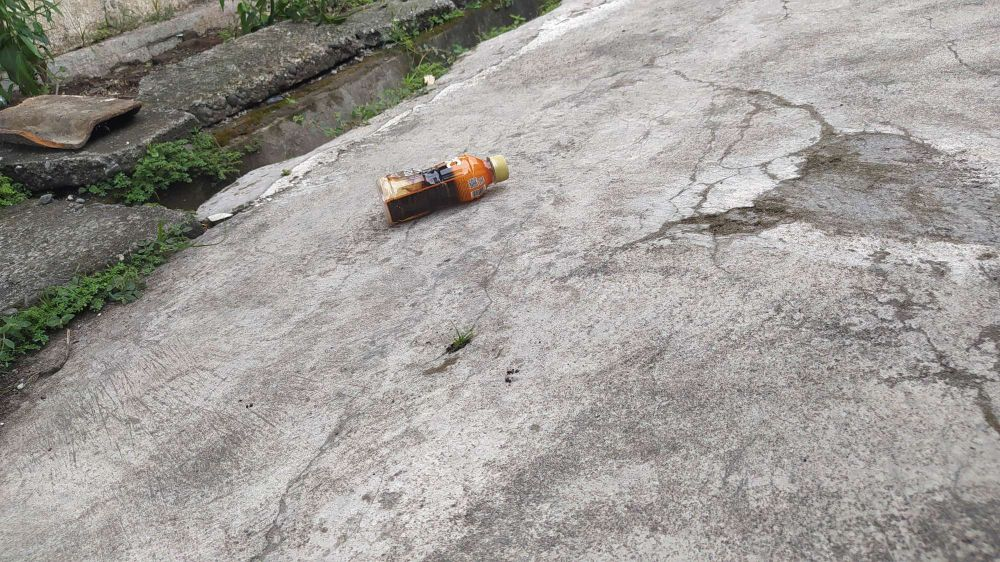botol: (363, 148, 522, 219)
